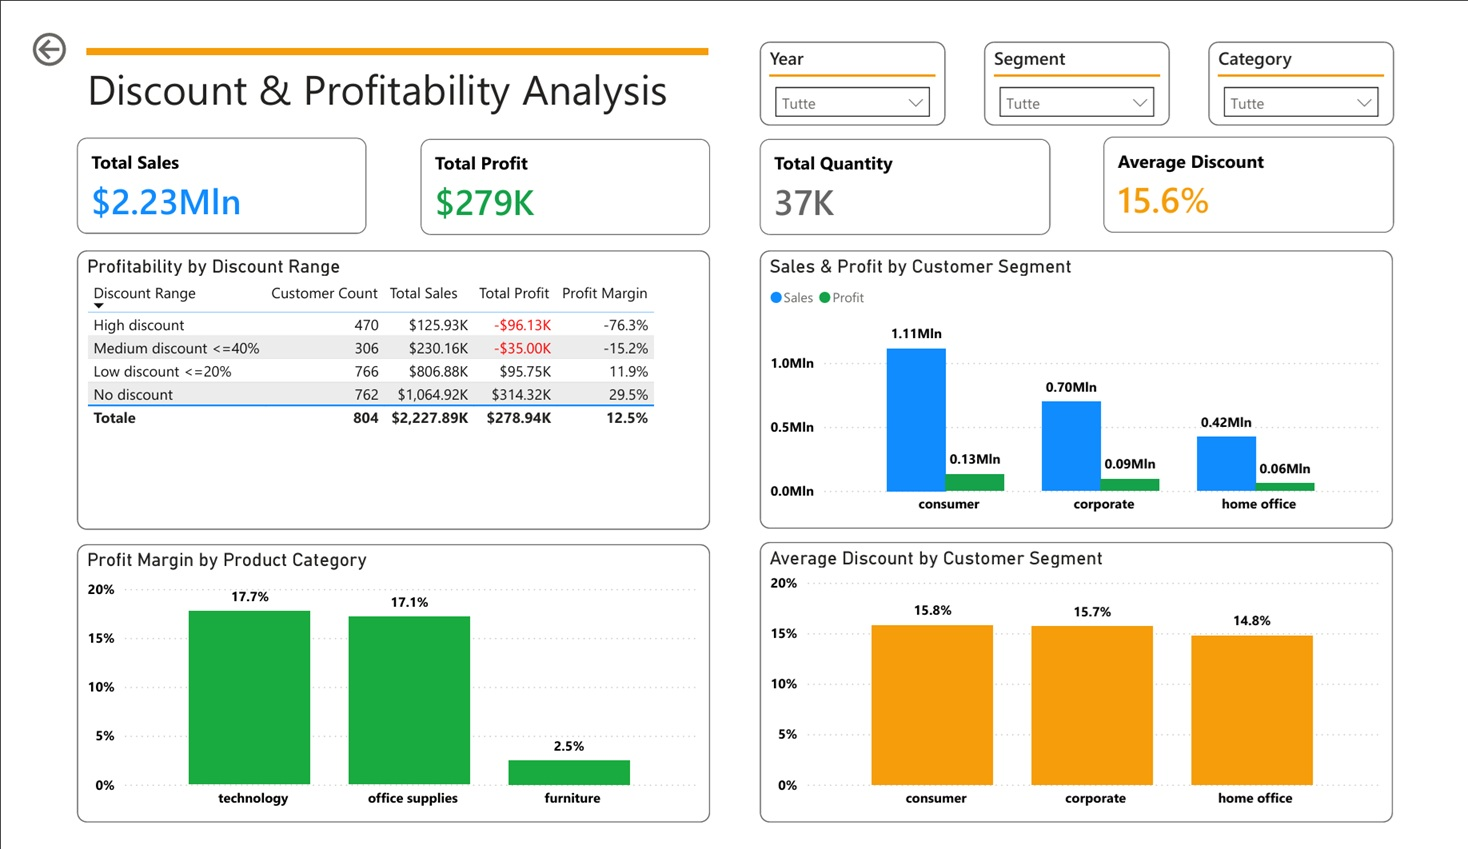

The dashboard page shown, as its layout file describes it:
{"tool":"powerbi","page":{"name":"Discount & Segments","canvas":[1280,720],"ordinal":1},"visuals":[{"type":"textbox","box":[48.5,13.7,573.6,75.9],"z":0},{"type":"slicer","title":"Year","fields":{"Values":["DIM_Date.year"]},"box":[663.2,13.4,168,75.9],"z":1000},{"type":"slicer","title":"Segment","fields":{"Values":["DIM_Customers.segment"]},"box":[865.8,13.4,167.9,75.9],"z":2000},{"type":"slicer","title":"Category","fields":{"Values":["DIM_Products.category"]},"box":[1068.6,13.4,167.9,75.9],"z":3000},{"type":"cardVisual","fields":{"Data":["FACT_Sales.Total Profit"]},"box":[355.8,100.5,262.5,87.1],"z":4000},{"type":"cardVisual","fields":{"Data":["FACT_Sales.Total Quantity"]},"box":[663,100.5,262.5,87.1],"z":5000},{"type":"cardVisual","fields":{"Data":["FACT_Sales.Average Discount"]},"box":[974,99.3,262.5,87.1],"z":6000},{"type":"actionButton","box":[0,0,100,40],"z":7000},{"type":"tableEx","title":"Profitability by Discount Range","fields":{"Values":["FACT_Sales.Discount Range","DIM_Customers.Customer Count","FACT_Sales.Total Sales","FACT_Sales.Total Profit","FACT_Sales.Profit Margin"]},"box":[44.8,201.5,573.5,253],"z":8000},{"type":"clusteredColumnChart","title":"Profit Margin by Product Category","fields":{"Y":["FACT_Sales.Profit Margin"],"Category":["DIM_Products.category"]},"box":[44.8,467.7,573.5,252.5],"z":9000},{"type":"cardVisual","fields":{"Data":["FACT_Sales.Total Sales"]},"box":[44.8,99.5,262.5,87.1],"z":10000},{"type":"clusteredColumnChart","title":"Sales & Profit by Customer Segment","fields":{"Category":["DIM_Customers.segment"],"Y":["Sum(FACT_Sales.sales)","Sum(FACT_Sales.profit)"]},"box":[663,201.5,573.5,252.5],"z":11000},{"type":"clusteredColumnChart","title":"Average Discount by Customer Segment","fields":{"Category":["DIM_Customers.segment"],"Y":["FACT_Sales.Average Discount"]},"box":[663,466.5,573.5,253.8],"z":12000}]}

Visuals, with their boxes in screenshot pixels (x1, y1, x2, y2), scaled from the page's 1280x720 canvas onto the 1468x849 screenshot:
textbox: [left=56, top=16, right=713, bottom=106]
"Year" slicer: [left=761, top=16, right=953, bottom=105]
"Segment" slicer: [left=993, top=16, right=1186, bottom=105]
"Category" slicer: [left=1226, top=16, right=1418, bottom=105]
cardVisual - FACT_Sales.Total Profit: [left=408, top=119, right=709, bottom=221]
cardVisual - FACT_Sales.Total Quantity: [left=760, top=119, right=1061, bottom=221]
cardVisual - FACT_Sales.Average Discount: [left=1117, top=117, right=1418, bottom=220]
actionButton: [left=0, top=0, right=115, bottom=47]
"Profitability by Discount Range" tableEx: [left=51, top=238, right=709, bottom=536]
"Profit Margin by Product Category" clusteredColumnChart: [left=51, top=551, right=709, bottom=848]
cardVisual - FACT_Sales.Total Sales: [left=51, top=117, right=352, bottom=220]
"Sales & Profit by Customer Segment" clusteredColumnChart: [left=760, top=238, right=1418, bottom=535]
"Average Discount by Customer Segment" clusteredColumnChart: [left=760, top=550, right=1418, bottom=848]
